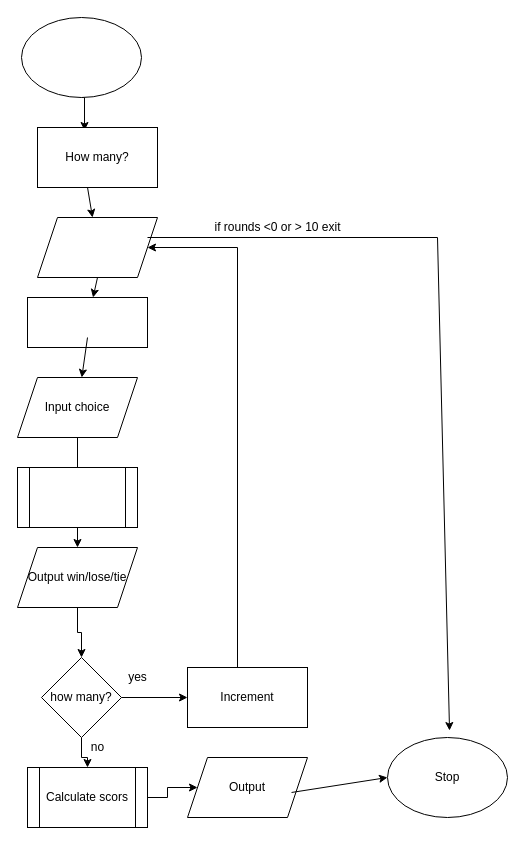
Image size: 525x845. Some labels were removed from this diagram. Here are the shapes that lost their labels. From the top down, the box of each, then its label:
(20, 16, 142, 98): Start
(36, 216, 158, 278): Data input
(26, 296, 148, 348): Play/choice
(16, 466, 138, 528): Evaluate win/lose/tie
